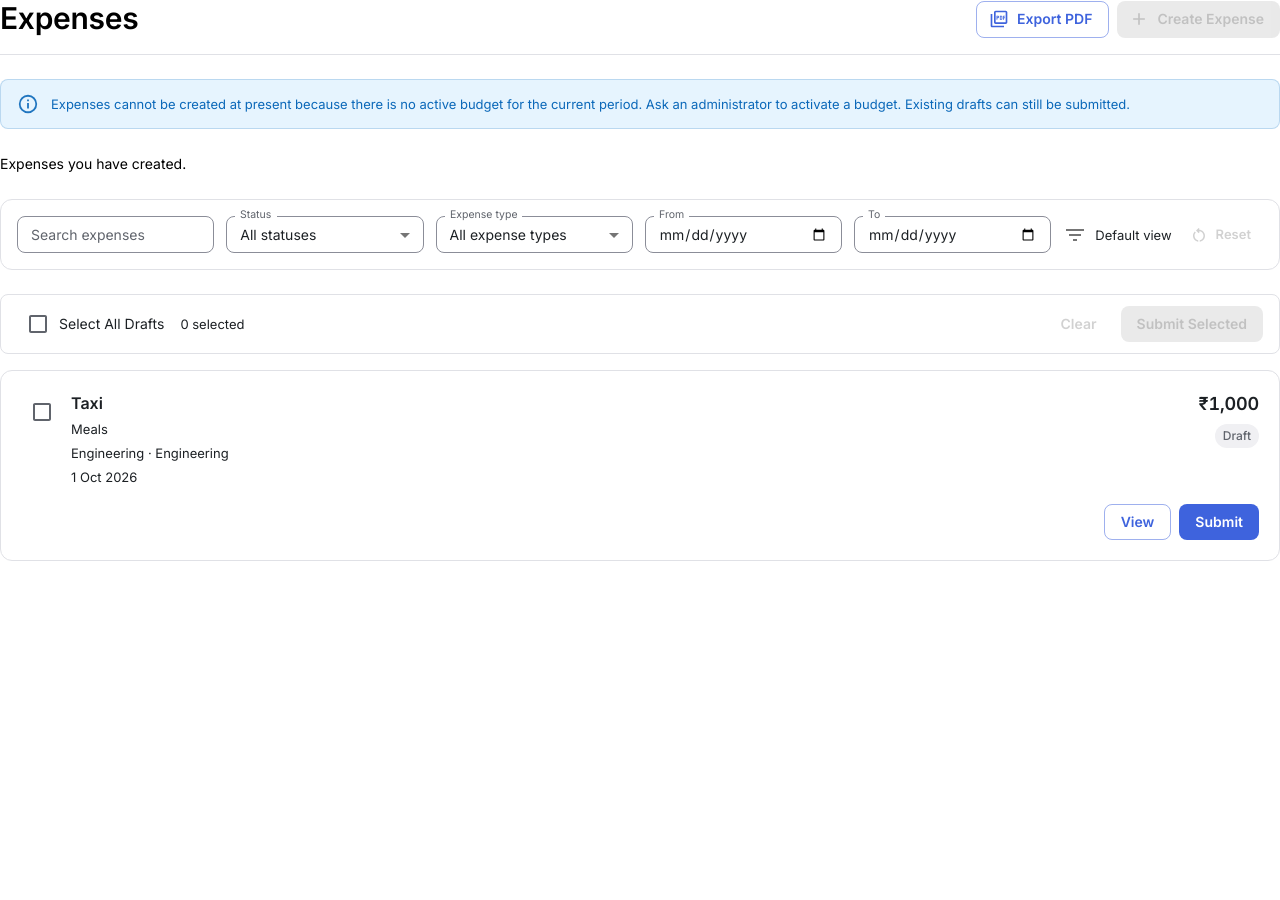
ExpensesPage submitting several drafts › submits nothing when the confirmation is cancelled
Click the checkbox named "Select Taxi": (42, 412) [30, 400, 54, 424]
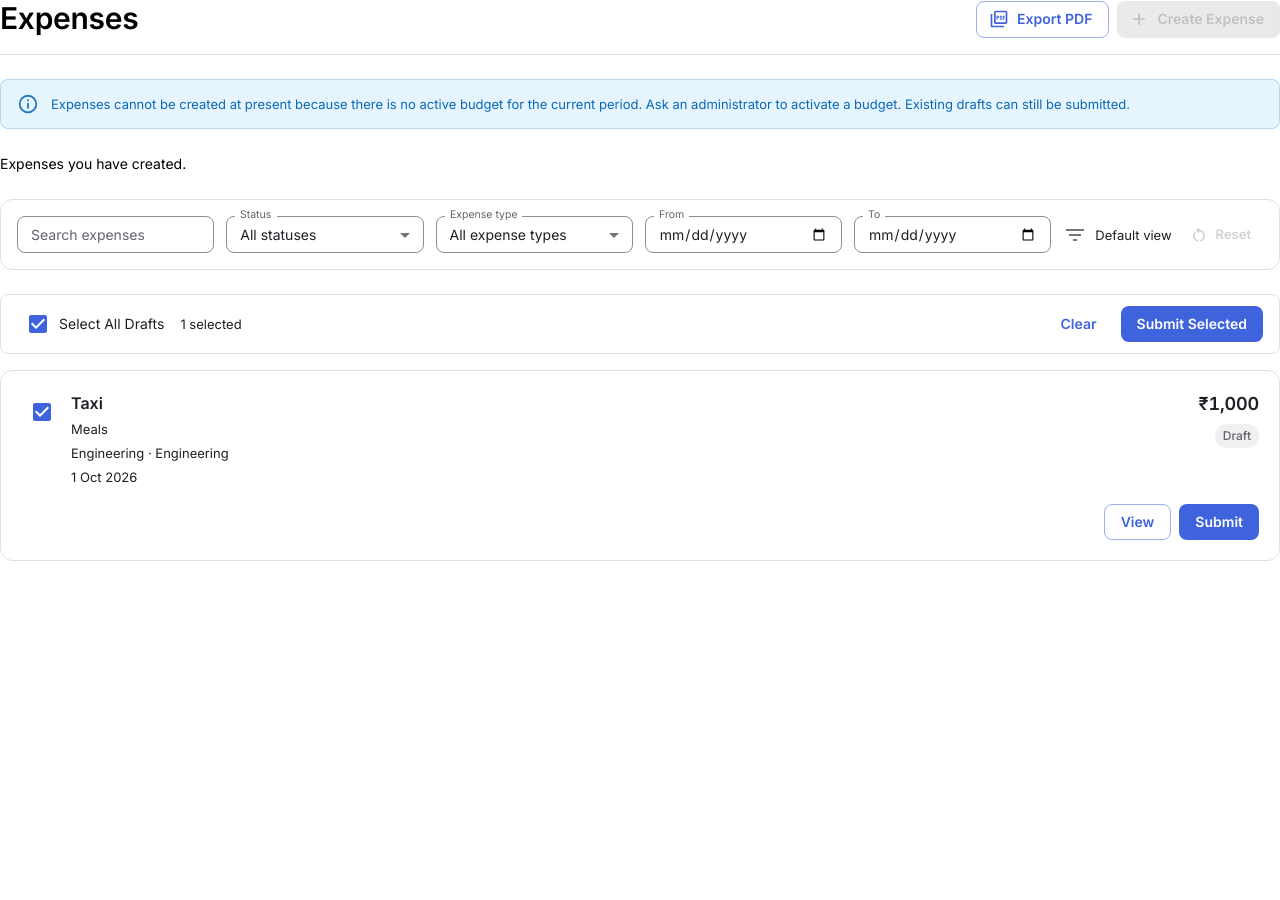
Click the button "Submit Selected": (1192, 324) [1120, 306, 1263, 342]
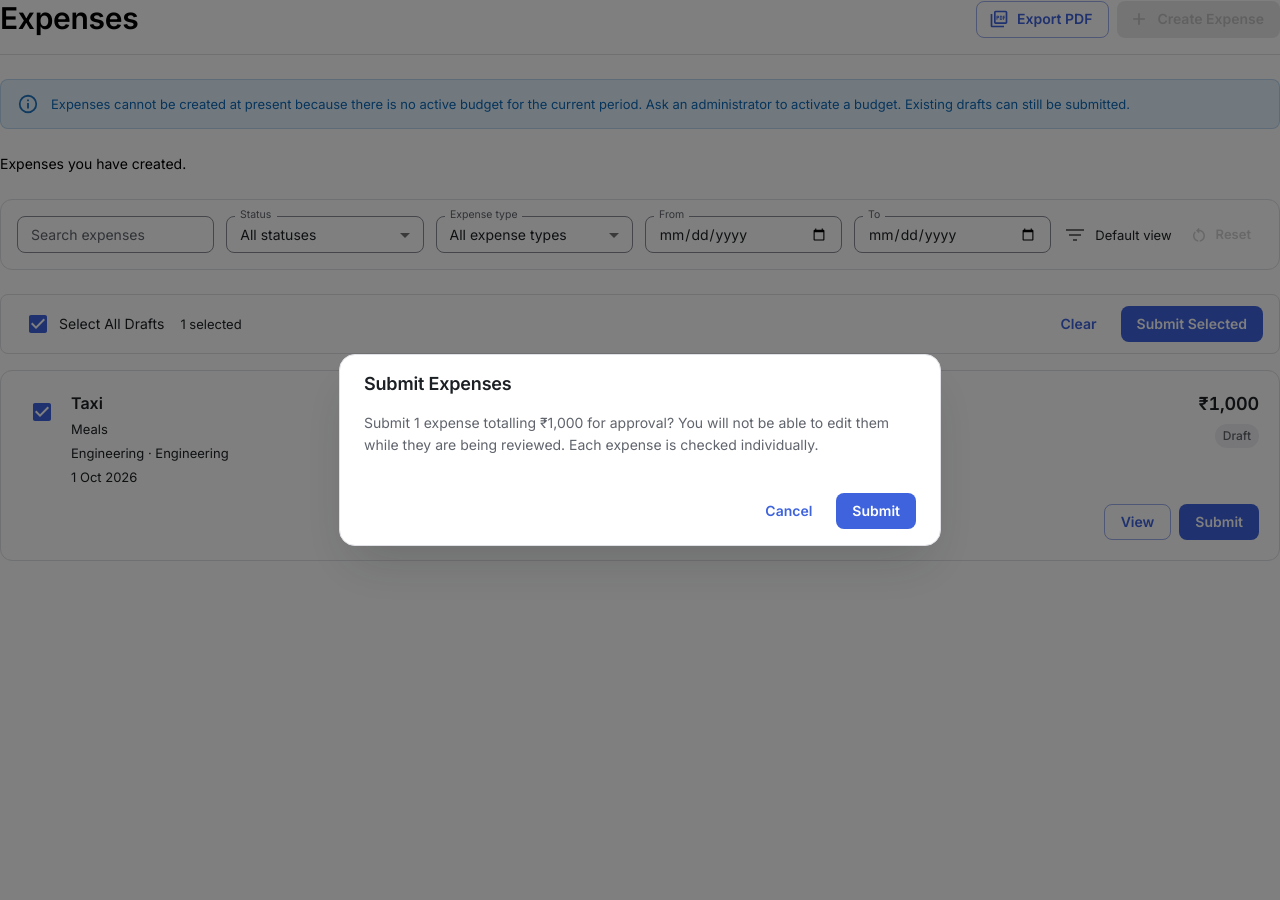
Click the button "Cancel": (789, 511) [749, 493, 828, 529]
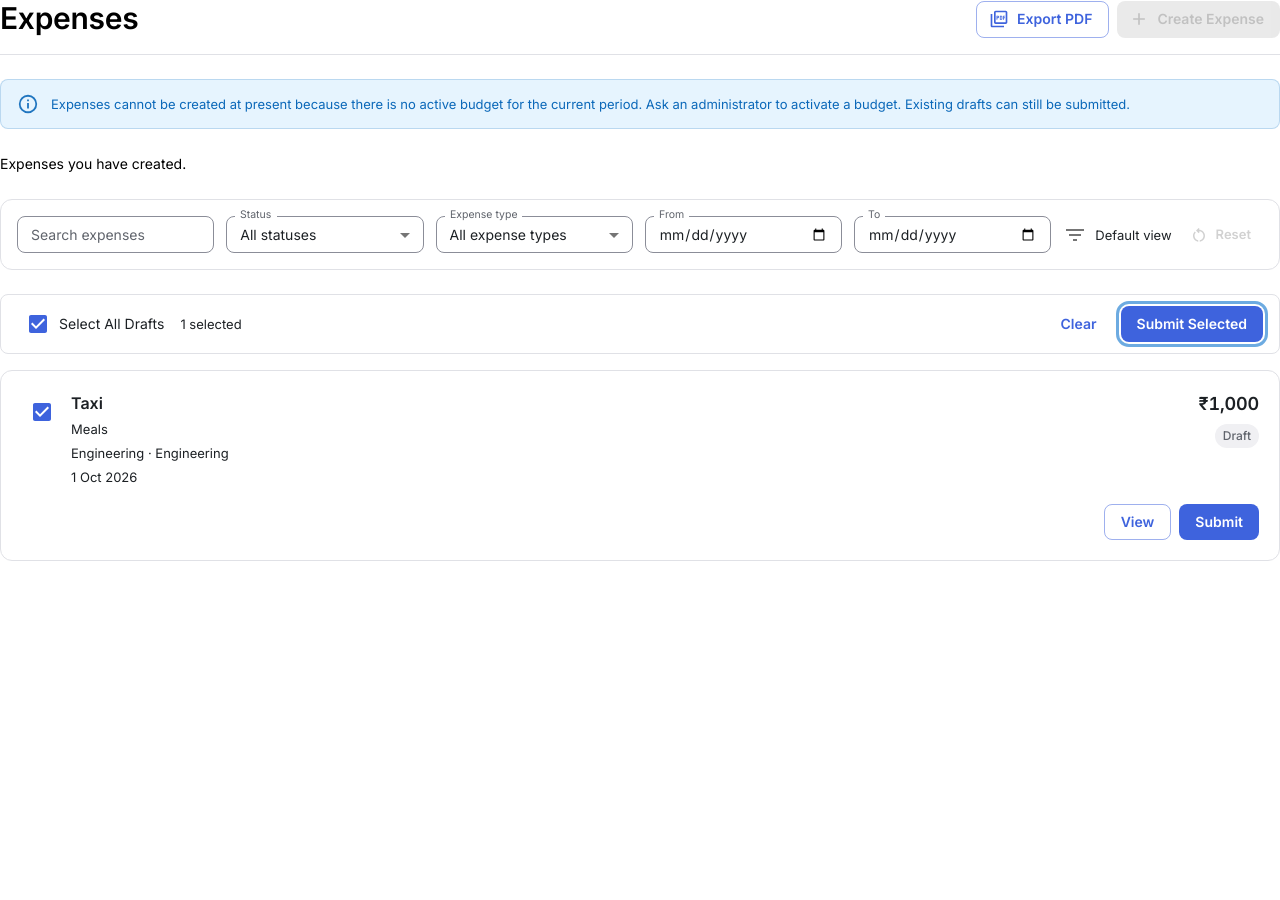
Expected: the checkbox named "Select Taxi" is checked, [30, 400, 54, 424]
Expected: the dialog is gone
